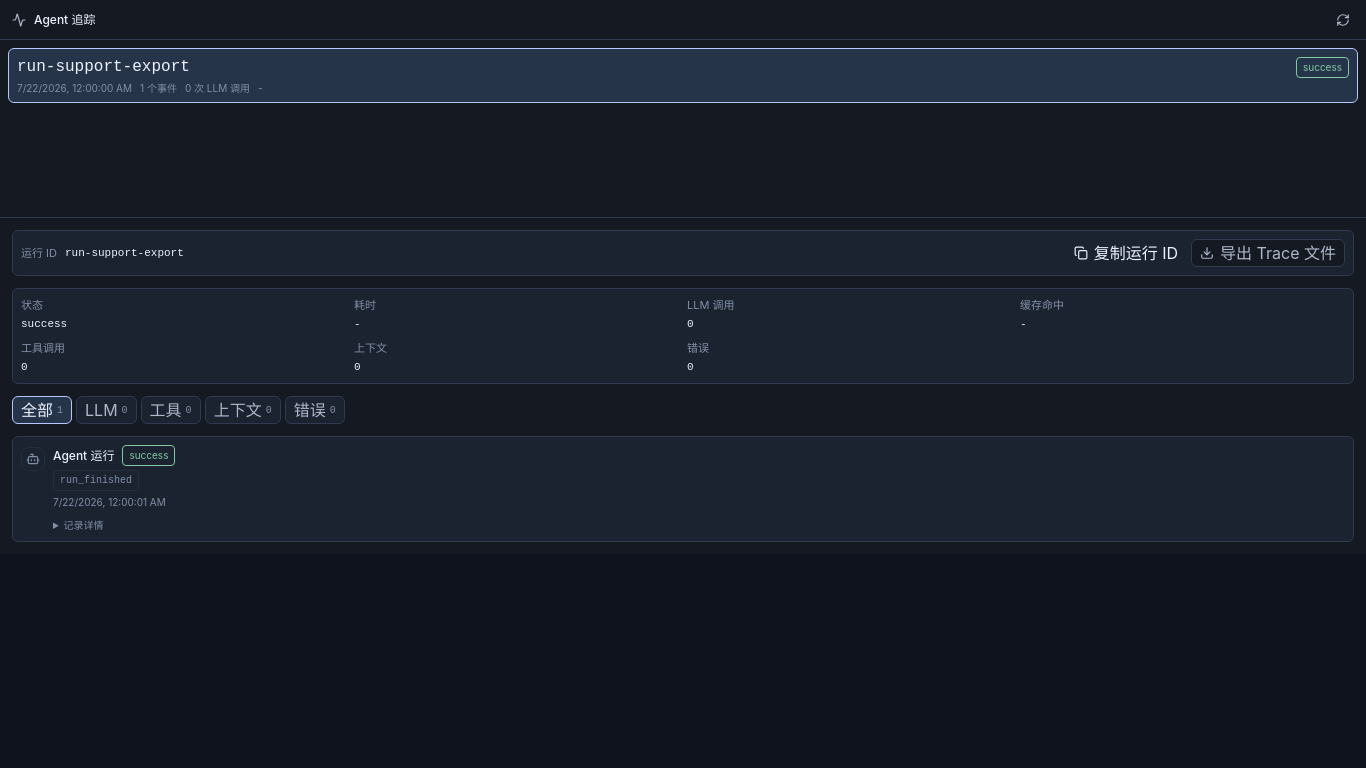
AgentTracePanel › copies the selected run ID
The width and height of the screenshot is (1366, 768).
Expected: the 2nd text titled "run-support-export" is shown, [65,245,184,261]
Click the button "复制运行 ID": [1126, 253] box [1065,239,1187,267]
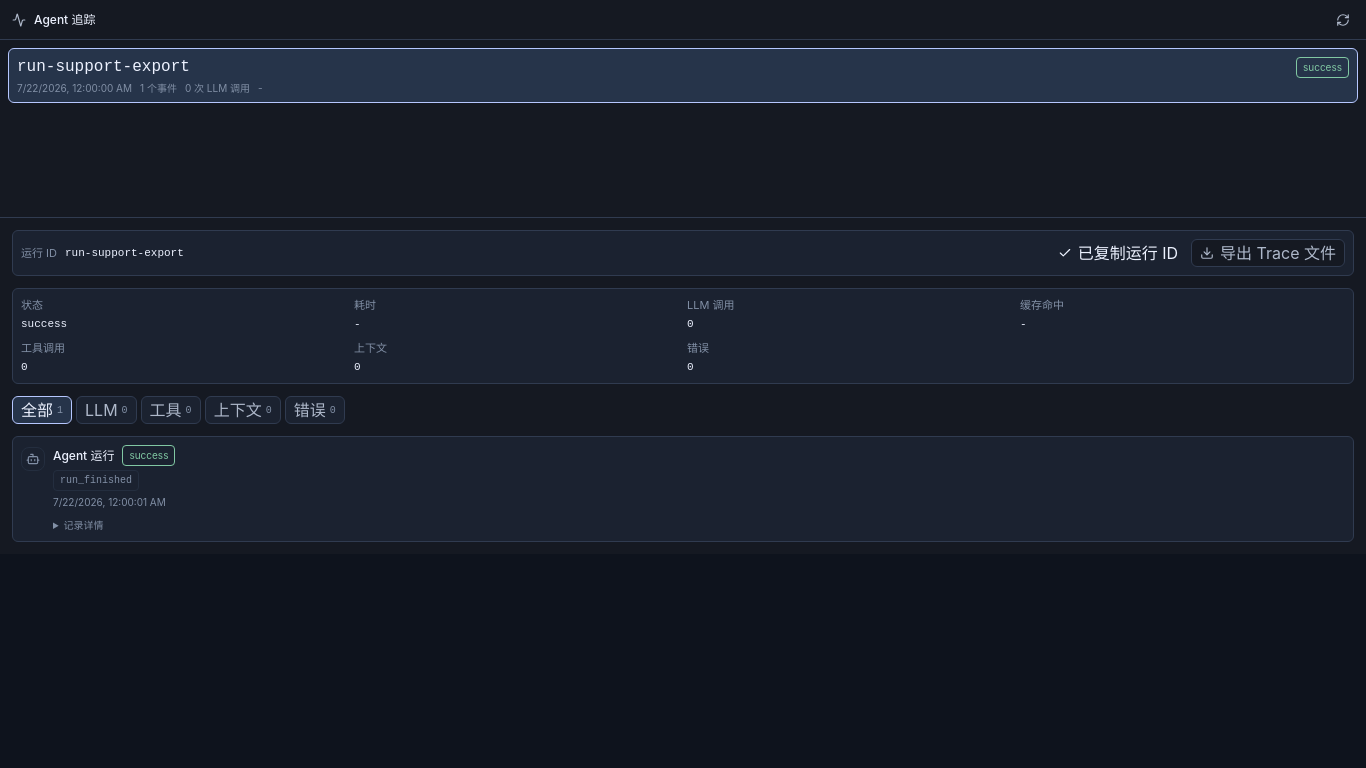
Result: the button "已复制运行 ID" is shown at [1049,239,1187,267]
